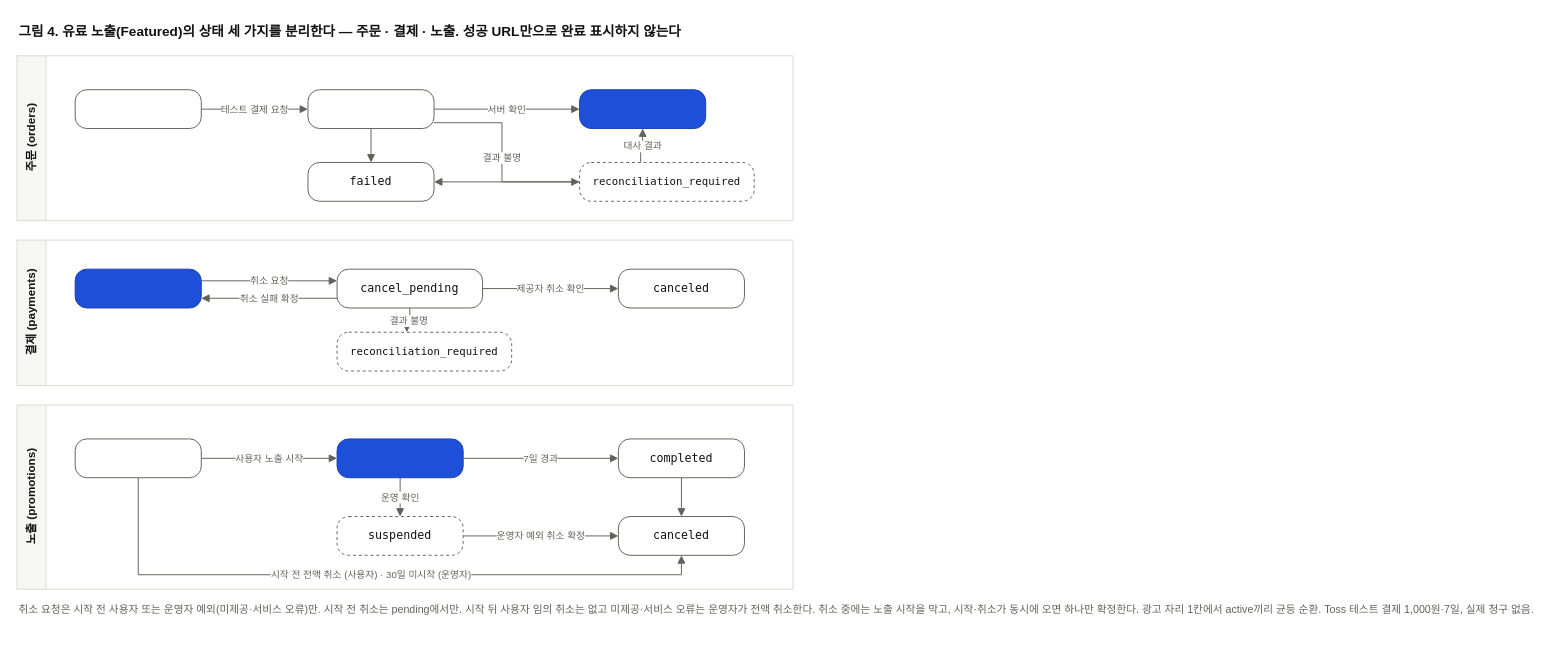
This 1551x652 diagram has some shape labels left out. Each missing label, with the centre of its shape:
active: (x=399, y=458)
confirmed: (x=137, y=288)
confirming: (x=370, y=109)
created: (x=137, y=109)
paid: (x=642, y=109)
pending: (x=137, y=458)
